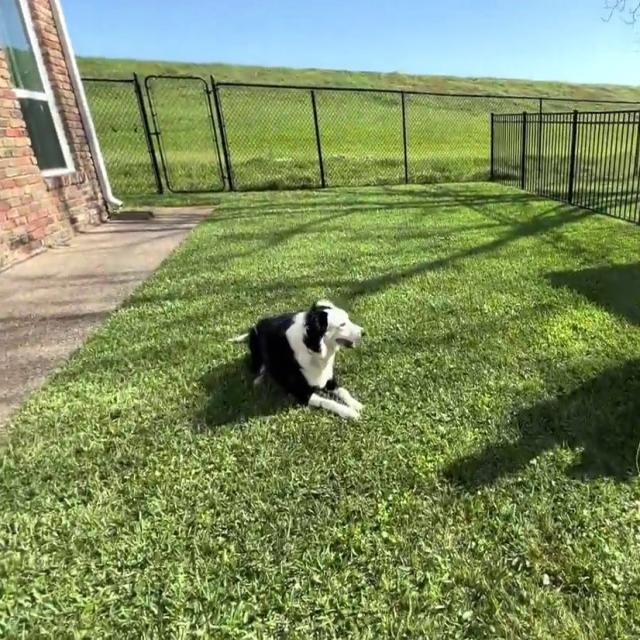Dog: (226, 296, 366, 422)
